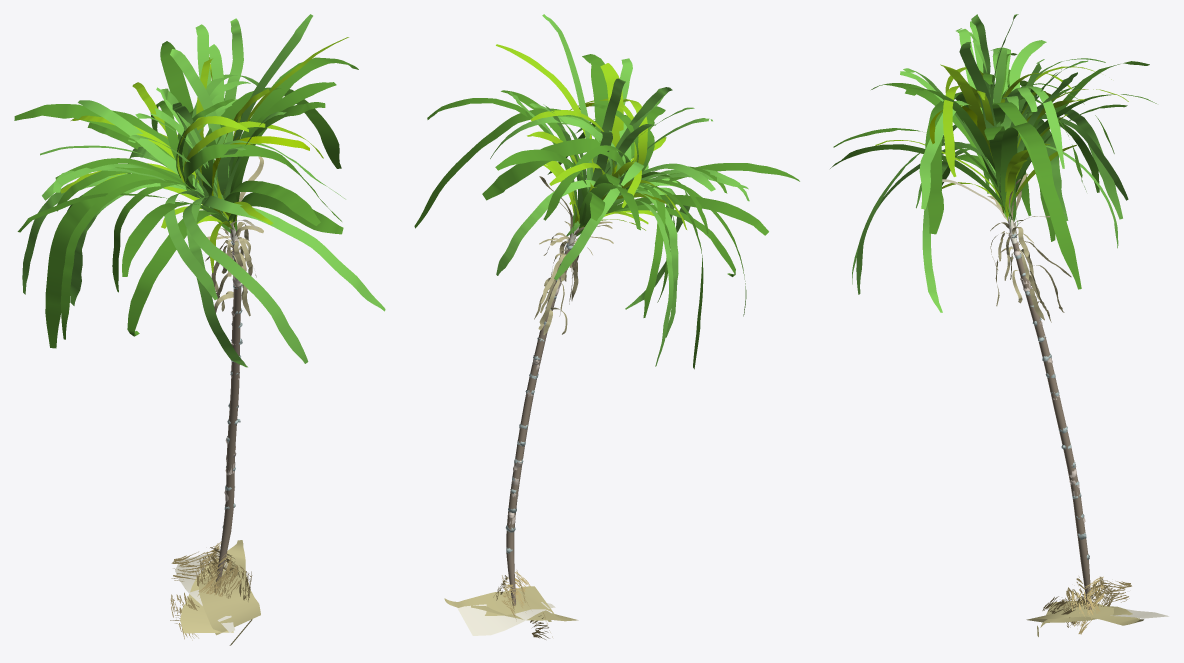
The model's file is sugarcane (1).glb.
3 renders of one model, left to right at view 1: azimuth 30°, elevation 25°; view 2: azimuth 150°, elevation 25°; view 3: azimuth 270°, elevation 25°, orthographic. The views are drawn at different scales.
Parts seen in each view (by area): view 1: brush_DoubleTaperedFlat_g1_b0_1, brush_DoubleTaperedMarker_g0_b0_5, brush_Wire_g1_b0_4, brush_CoarseBristles_g0_b0_6; view 2: brush_DoubleTaperedFlat_g1_b0_1, brush_DoubleTaperedMarker_g0_b0_5, brush_Wire_g1_b0_4, brush_CoarseBristles_g0_b0_6; view 3: brush_DoubleTaperedFlat_g1_b0_1, brush_Wire_g1_b0_4, brush_DoubleTaperedMarker_g0_b0_5, brush_CoarseBristles_g0_b0_6.
Part boxes in pixels (x1=…): brush_DoubleTaperedFlat_g1_b0_1: x1=14, y1=14, x2=385, y2=367; brush_DoubleTaperedMarker_g0_b0_5: x1=175, y1=540, x2=260, y2=645; brush_Wire_g1_b0_4: x1=215, y1=217, x2=242, y2=585; brush_CoarseBristles_g0_b0_6: x1=170, y1=542, x2=252, y2=640; brush_DoubleTaperedFlat_g1_b0_1: x1=414, y1=14, x2=799, y2=369; brush_DoubleTaperedMarker_g0_b0_5: x1=444, y1=586, x2=578, y2=635; brush_Wire_g1_b0_4: x1=505, y1=226, x2=579, y2=605; brush_CoarseBristles_g0_b0_6: x1=493, y1=570, x2=552, y2=639; brush_DoubleTaperedFlat_g1_b0_1: x1=830, y1=14, x2=1156, y2=322; brush_Wire_g1_b0_4: x1=1008, y1=216, x2=1091, y2=609; brush_DoubleTaperedMarker_g0_b0_5: x1=1026, y1=601, x2=1168, y2=636; brush_CoarseBristles_g0_b0_6: x1=1042, y1=576, x2=1131, y2=634.
Bounding box in the file's own units: 2.55 × 4.43 × 2.18.
Materials: 4 (1 with a texture image).
